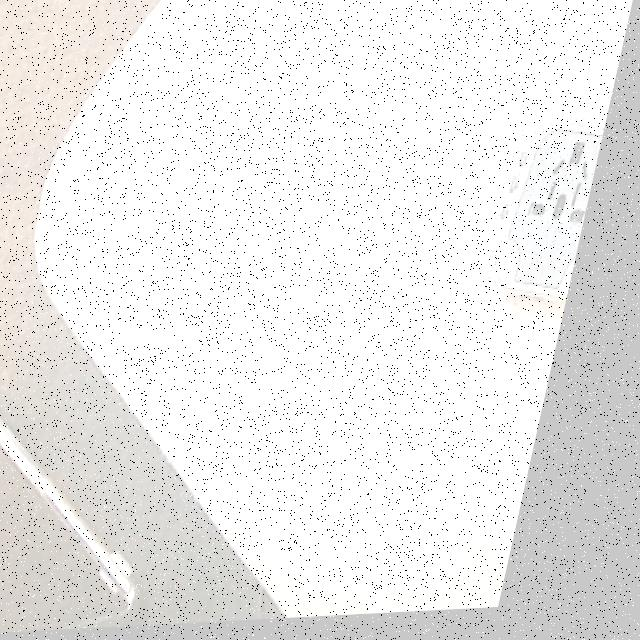adapter: (493, 124, 613, 313)
